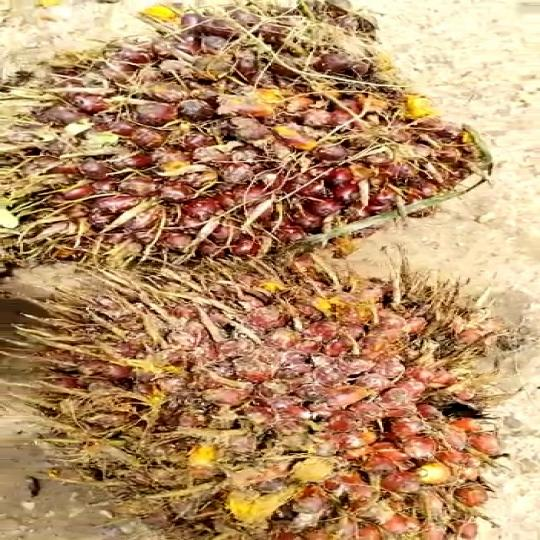masak: (10, 258, 516, 540), (0, 0, 500, 273)
